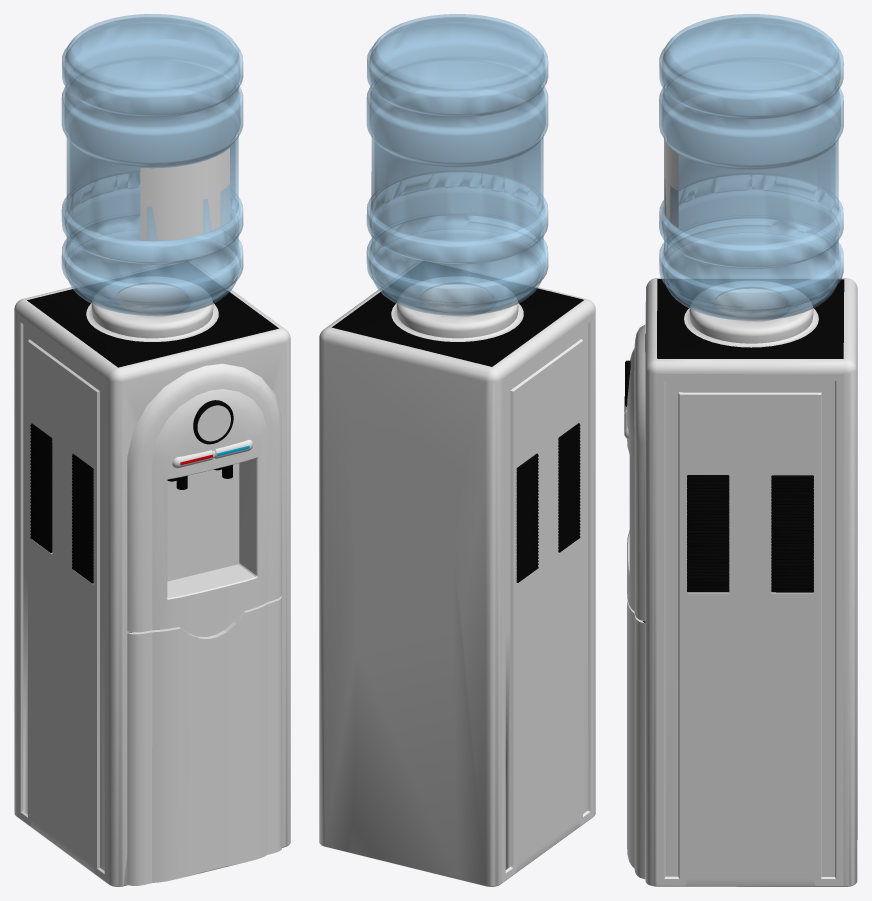
File: brad.glb
The picture shows the model from 3 angles, left to right: view 1: azimuth 30°, elevation 25°; view 2: azimuth 150°, elevation 25°; view 3: azimuth 270°, elevation 25°; orthographic projection.
Visible parts, largest first — view 1: Collapse_Acc_Off_005; view 2: Collapse_Acc_Off_005; view 3: Collapse_Acc_Off_005.
Boxes of the visible parts, x1,y1,x2,y2 form: Collapse_Acc_Off_005: (14,14,290,886); Collapse_Acc_Off_005: (319,14,595,886); Collapse_Acc_Off_005: (624,14,857,886).
Bounding box in the file's own units: 0.3814 × 1.55 × 0.4138.
